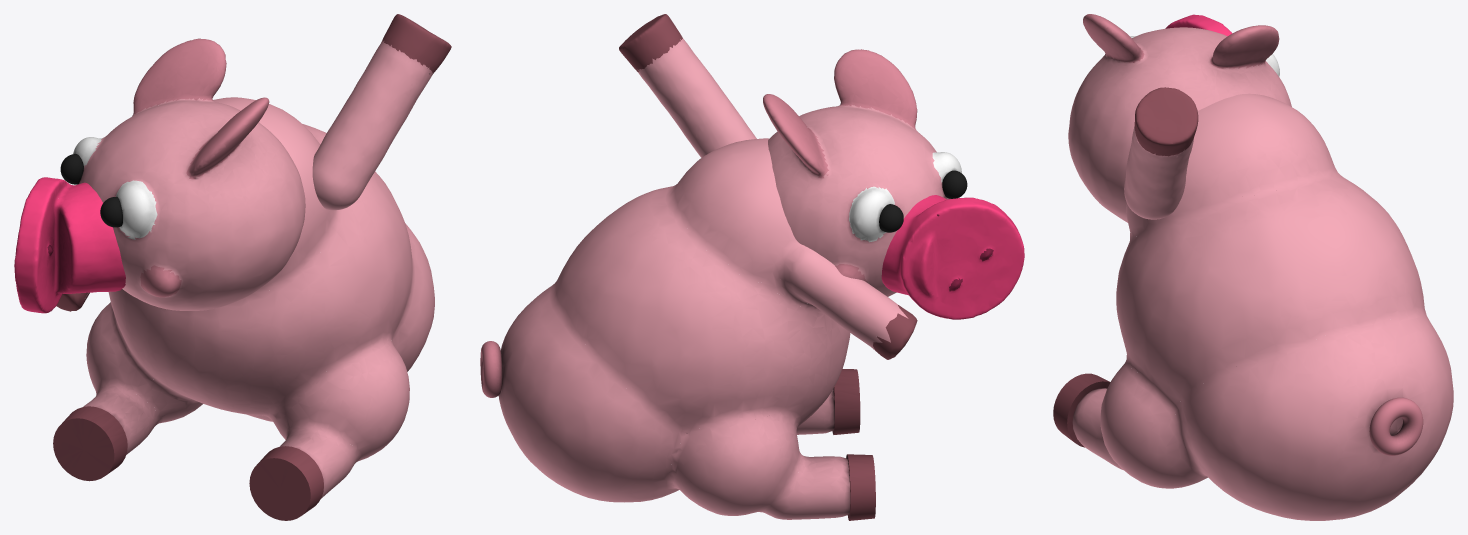
The model's file is vanta-lite.glb.
The picture shows the model from 3 angles, left to right: view 1: azimuth 30°, elevation 25°; view 2: azimuth 150°, elevation 25°; view 3: azimuth 270°, elevation 25°; orthographic projection. The views are drawn at different scales.
Visible parts, largest first — view 1: porco__r0, cabeca__r0, bracoR__r0, venta__r0, porco__r1, porco__r2, cabeca__r2, cabeca__r1; view 2: porco__r0, cabeca__r0, venta__r0, bracoR__r0, porco__r1, porco__r2, porco__r3; view 3: porco__r0, cabeca__r0, bracoR__r0, porco__r3, porco__r2, venta__r0.
Boxes of the visible parts, x1,y1,x2,y2 form: porco__r0: (56,97,434,498); cabeca__r0: (73,38,305,310); bracoR__r0: (312,14,451,210); venta__r0: (14,177,125,313); porco__r1: (53,406,127,481); porco__r2: (249,446,323,520); cabeca__r2: (100,197,122,227); cabeca__r1: (60,154,83,184); porco__r0: (498,138,917,519); cabeca__r0: (763,49,961,296); venta__r0: (881,195,1024,319); bracoR__r0: (619,14,756,157); porco__r1: (846,454,875,520); porco__r2: (832,368,860,434); porco__r3: (480,341,502,397); porco__r0: (1072,93,1453,520); cabeca__r0: (1068,14,1291,222); bracoR__r0: (1124,87,1198,219); porco__r3: (1369,397,1423,455); porco__r2: (1053,373,1110,447); venta__r0: (1165,14,1232,36).
Size of the model in its own units: 1.61 by 1.43 by 1.18.
